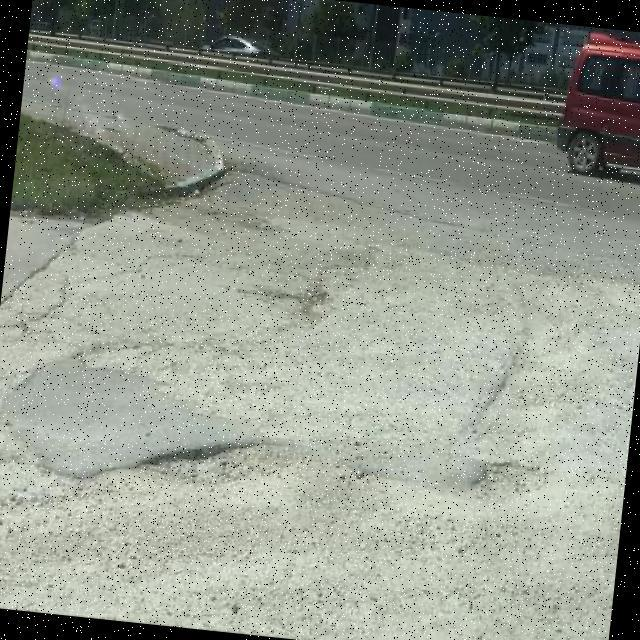Pothole: (114, 442, 300, 487), (459, 461, 551, 504)
